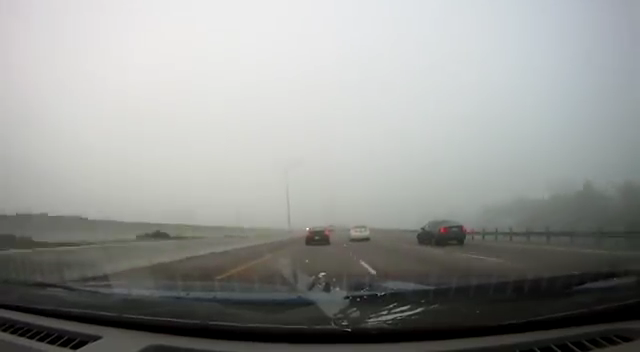car: (416, 219, 466, 246), (304, 226, 332, 245), (348, 224, 371, 241)
